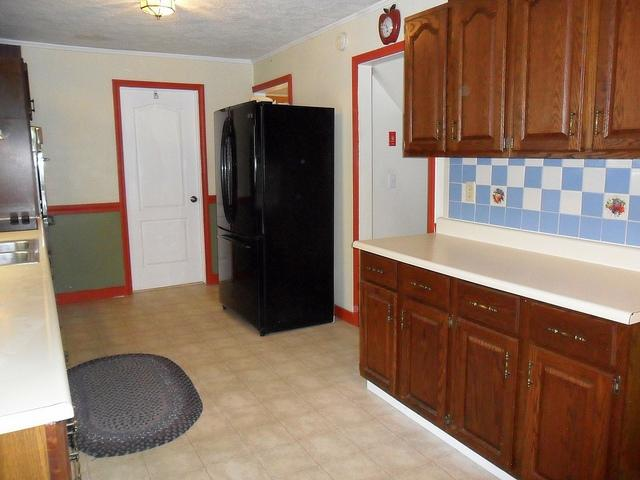peach: (608, 203, 614, 210), (496, 194, 502, 201)
